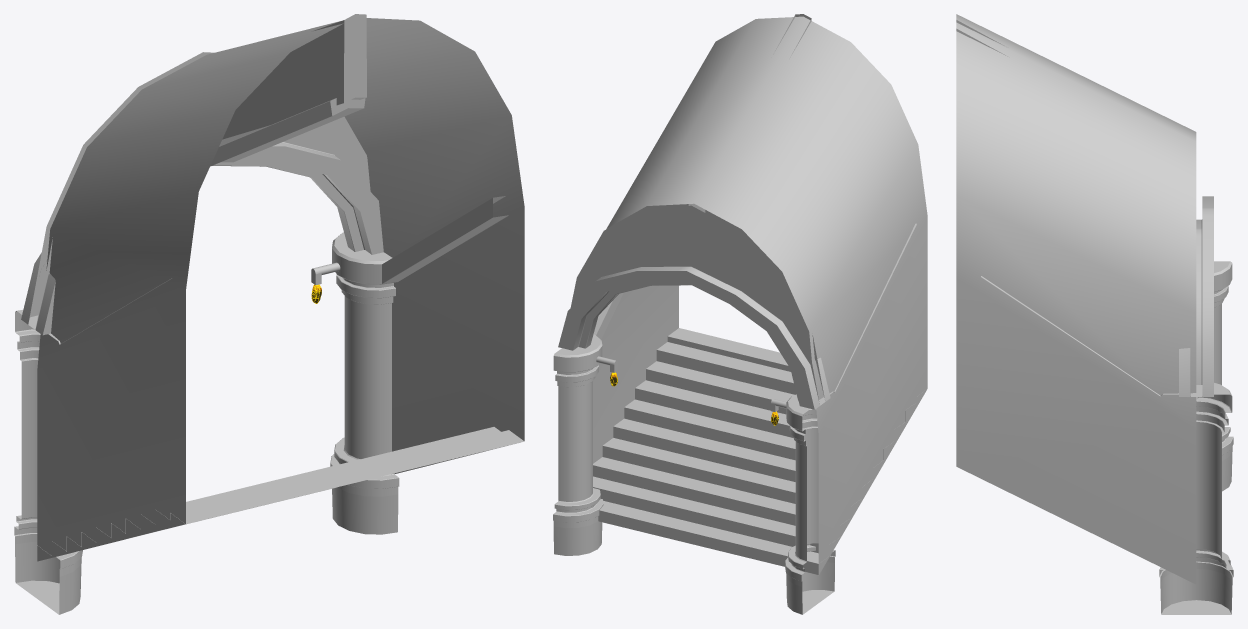
Rendered from tunnel_stairs.fbx.
The picture shows the model from 3 angles, left to right: view 1: azimuth 30°, elevation 25°; view 2: azimuth 150°, elevation 25°; view 3: azimuth 270°, elevation 25°; orthographic projection. The views are drawn at different scales.
Visible parts, largest first — view 1: arch, NEWroofArch1, pillar10, pillar11, stairs; view 2: arch, stairs, NEWroofArch1, pillar10, pillar11; view 3: arch, pillar10, NEWroofArch1, pillar11.
Boxes of the visible parts, x1,y1,x2,y2 form: arch: [37, 18, 524, 561]; NEWroofArch1: [21, 14, 383, 335]; pillar10: [330, 196, 508, 534]; pillar11: [14, 278, 171, 614]; stairs: [37, 427, 524, 555]; arch: [593, 16, 927, 575]; stairs: [593, 328, 922, 574]; NEWroofArch1: [558, 14, 830, 409]; pillar10: [553, 292, 623, 555]; pillar11: [785, 223, 916, 614]; arch: [956, 14, 1196, 584]; pillar10: [981, 276, 1233, 614]; NEWroofArch1: [956, 20, 1213, 396]; pillar11: [1214, 261, 1233, 491].
Bounding box in the file's own units: 4.53 × 8.08 × 3.86.
